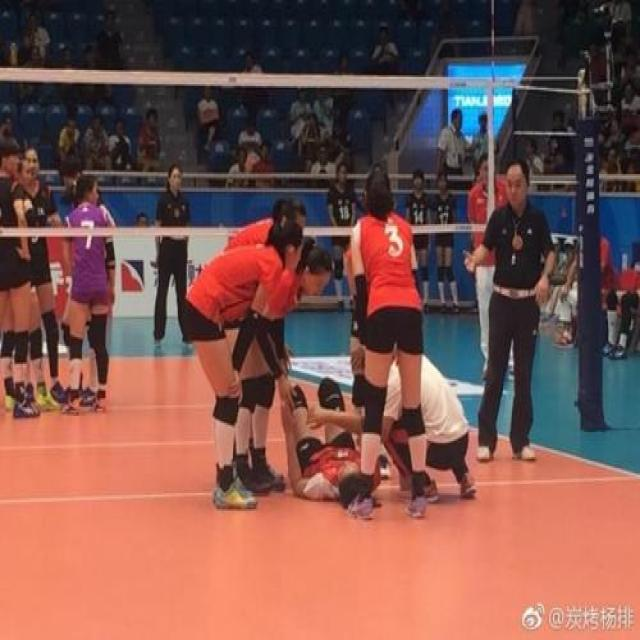10-: (0, 2, 639, 527)
down: (279, 371, 392, 507)
